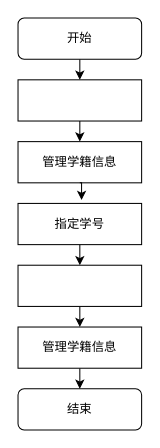
Some shapes in this 160 by 448 pixel diagram are drawn without their labels. Each missing label, with the centre of its shape:
"管理员登录" goes at point 79,100.
"输入新的学籍状态" goes at point 79,285.
